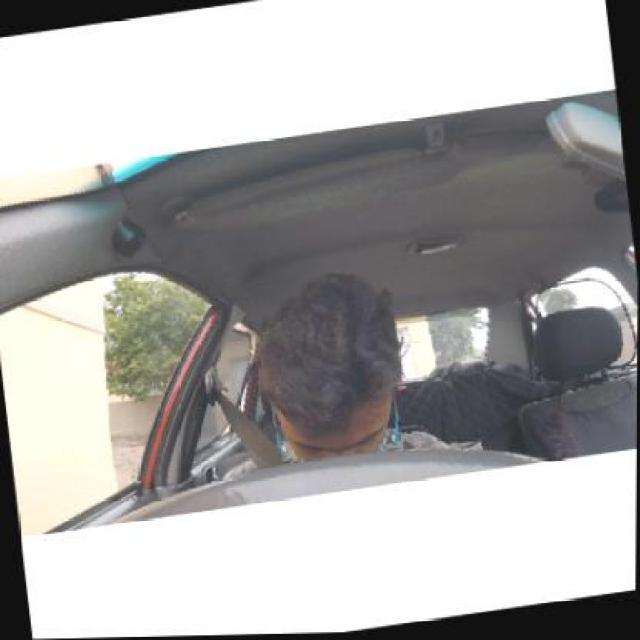drowsy: (249, 271, 417, 466)
